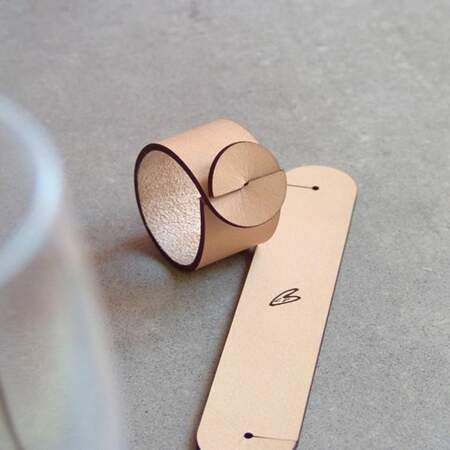cuero: (135, 118, 357, 450)
